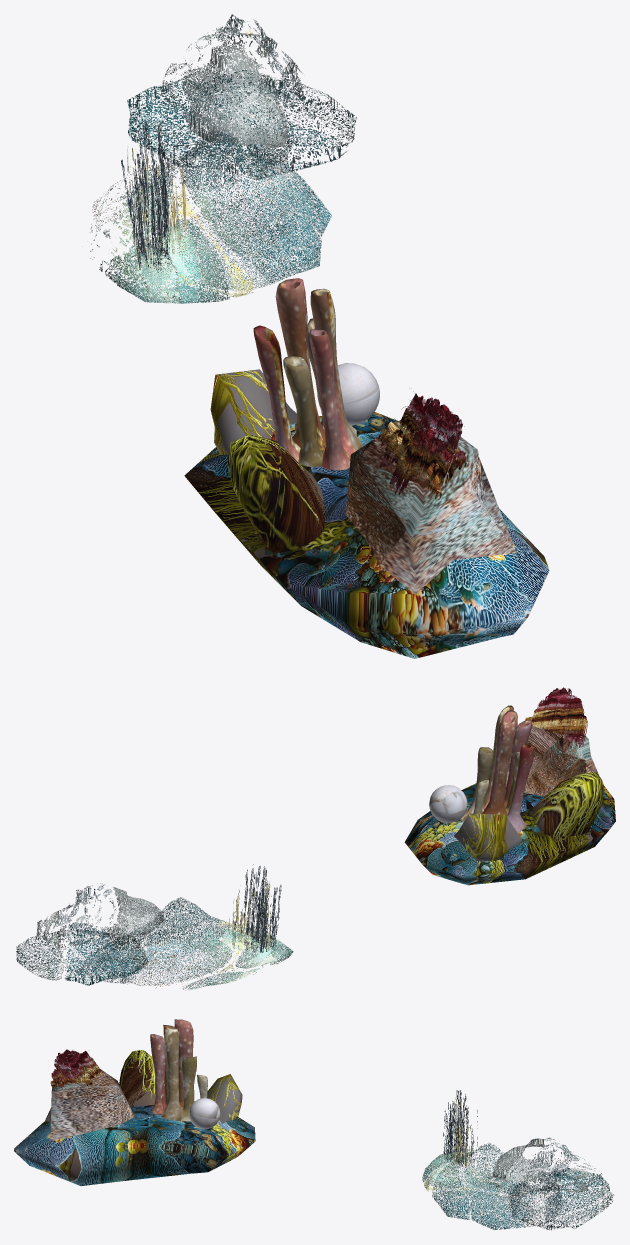
The picture shows the model from 3 angles, top to bottom: view 1: azimuth 30°, elevation 25°; view 2: azimuth 150°, elevation 25°; view 3: azimuth 270°, elevation 25°; orthographic projection. The views are drawn at different scales.
Visible parts, largest first — view 1: MSH_Base_02, MSH_Base_01, MSH_Base_02_Aux; view 2: MSH_Base_01, MSH_Base_02, MSH_Base_02_Aux; view 3: MSH_Base_02, MSH_Base_01, MSH_Base_02_Aux.
Boxes of the visible parts, left/top/right/bottom form: MSH_Base_02: left=184, top=369, right=549, bottom=658; MSH_Base_01: left=90, top=14, right=356, bottom=303; MSH_Base_02_Aux: left=253, top=278, right=467, bottom=499; MSH_Base_01: left=16, top=864, right=293, bottom=990; MSH_Base_02: left=404, top=724, right=615, bottom=885; MSH_Base_02_Aux: left=429, top=687, right=587, bottom=833; MSH_Base_02: left=14, top=1050, right=255, bottom=1186; MSH_Base_01: left=422, top=1090, right=614, bottom=1230; MSH_Base_02_Aux: left=50, top=1019, right=220, bottom=1129.
Bounding box in the file's own units: 2043 × 1021 × 4012.
